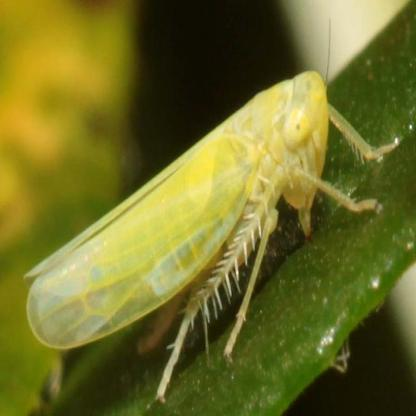green-leafhopper: (22, 68, 400, 402)
